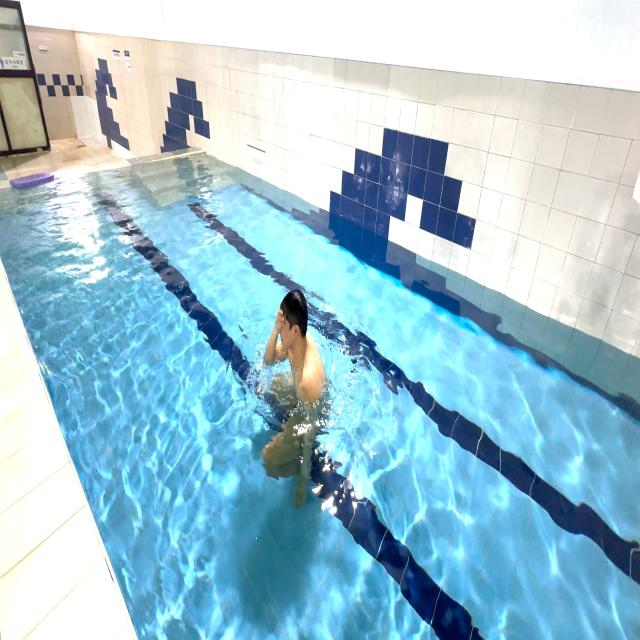Swimming: (238, 261, 348, 496)
